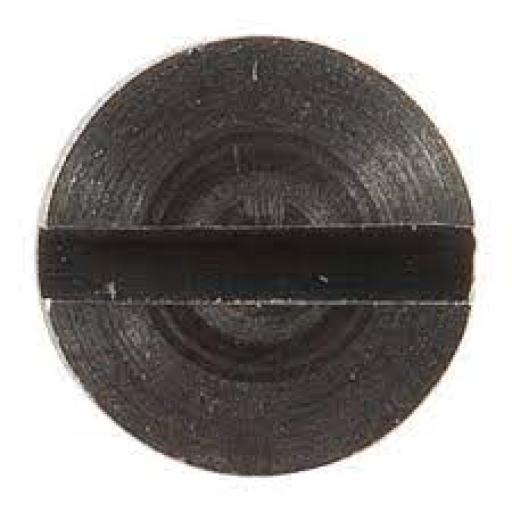Slotted: (41, 31, 480, 480)
